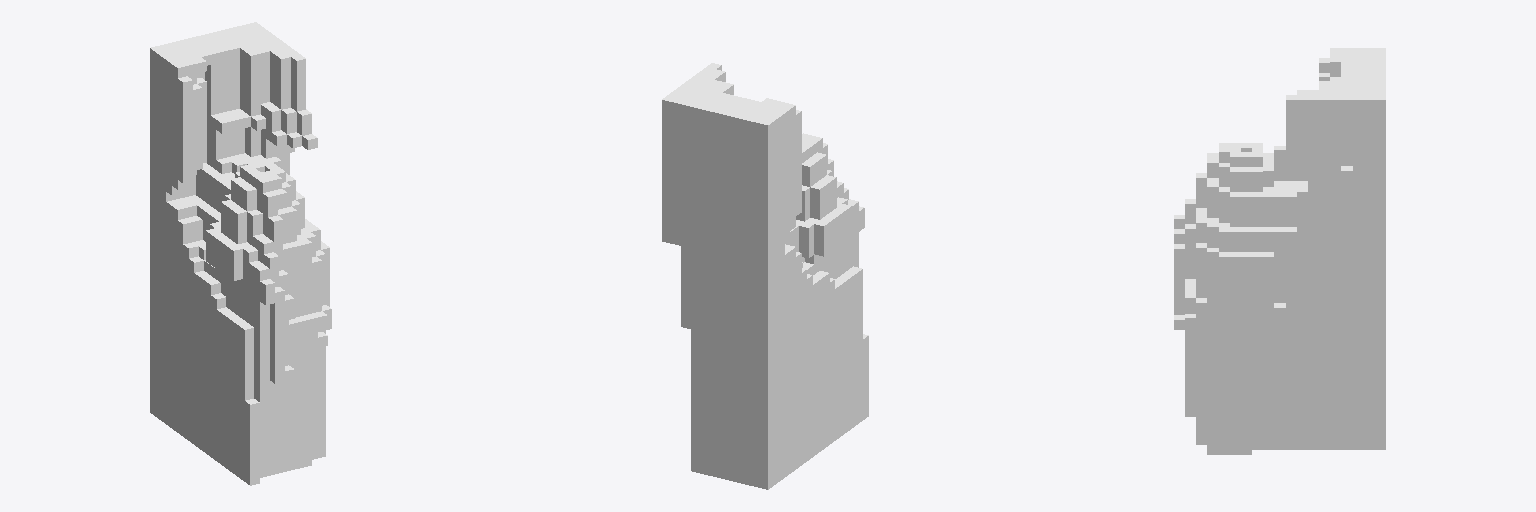
Rendered from beach6.obj.
3 renders of one model, left to right at view 1: azimuth 30°, elevation 25°; view 2: azimuth 150°, elevation 25°; view 3: azimuth 270°, elevation 25°, orthographic.
Parts seen in each view (by area): view 1: object 1; view 2: object 1; view 3: object 1.
Part boxes in pixels (left/top/right/bottom): object 1: left=150, top=22, right=331, bottom=485; object 1: left=662, top=63, right=868, bottom=489; object 1: left=1174, top=48, right=1385, bottom=454.
Size of the model in its own units: 1.1 by 3.6 by 1.9.